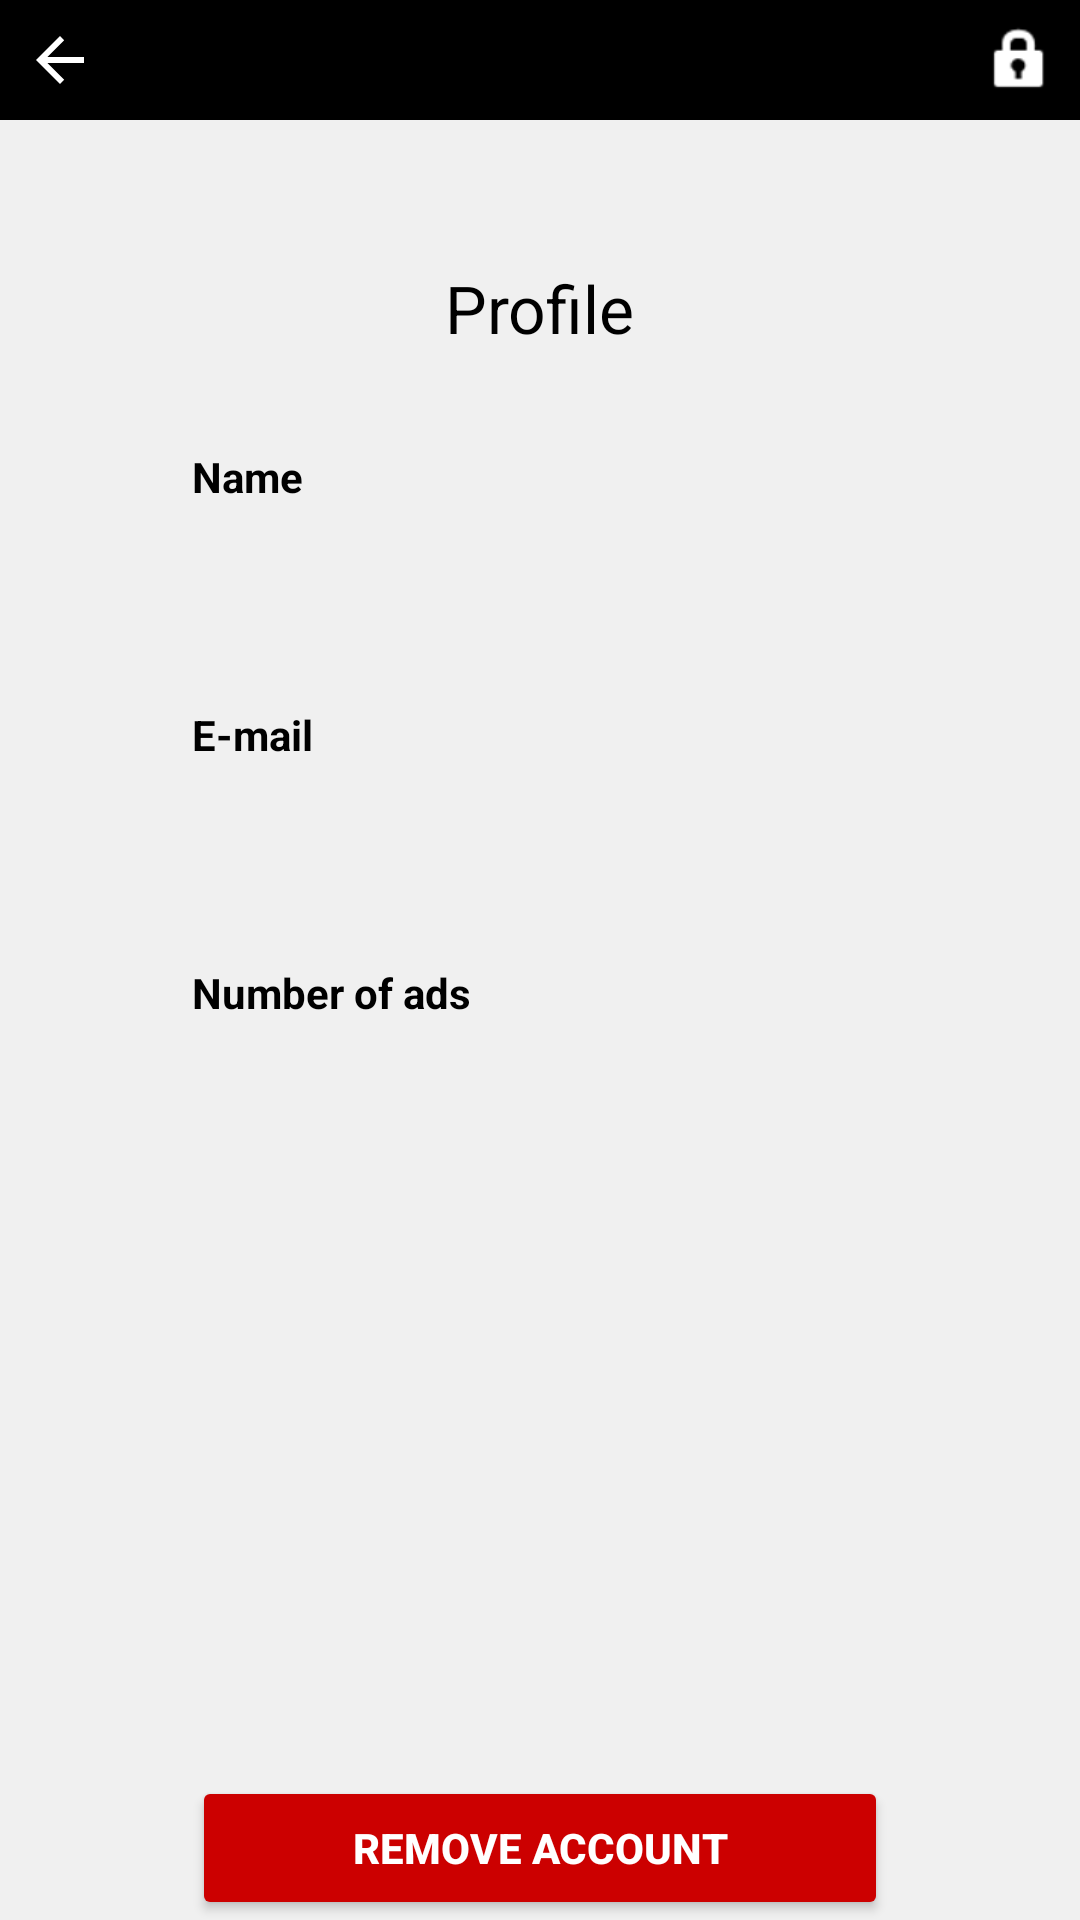

Where icons sit on this 1080px×1920px app screen, as (x1, y1, x2, y2):
lock idle: (993, 28, 1044, 88)
